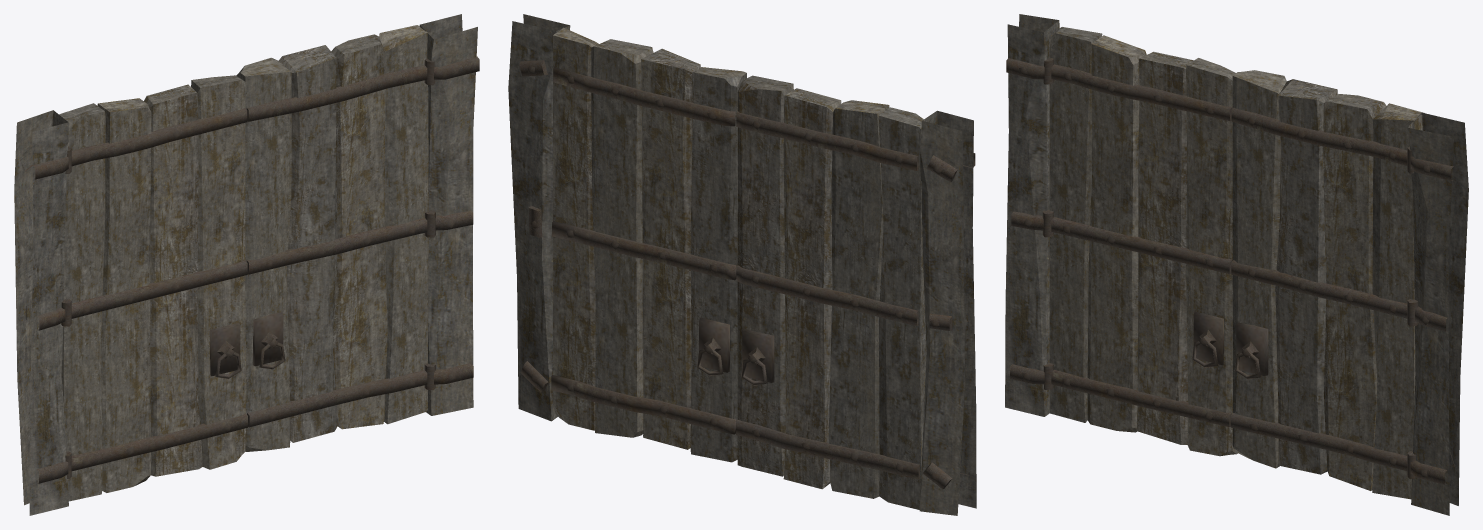
File: door_static.fbx
3 renders of one model, left to right at view 1: azimuth 30°, elevation 25°; view 2: azimuth 150°, elevation 25°; view 3: azimuth 330°, elevation 25°, orthographic.
Visible parts, largest first — view 1: door_static; view 2: door_static; view 3: door_static.
Part boxes in pixels (x1,y1,x2,y2): door_static: (14,14,479,515); door_static: (508,14,976,515); door_static: (1005,14,1468,515).
Size of the model in its own units: 124 by 101 by 13.46.
